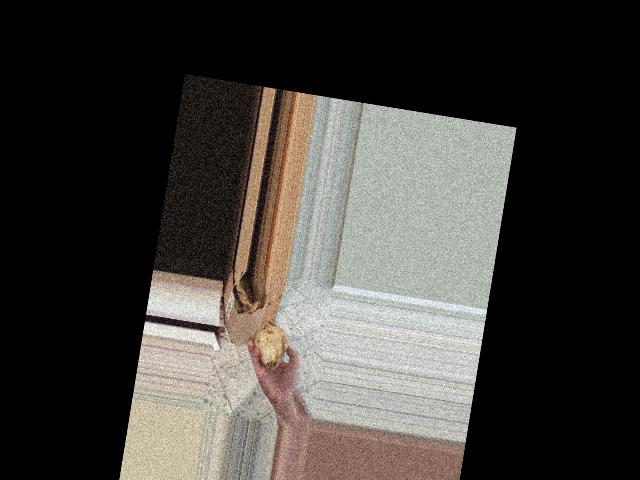onion: (247, 319, 293, 373)
